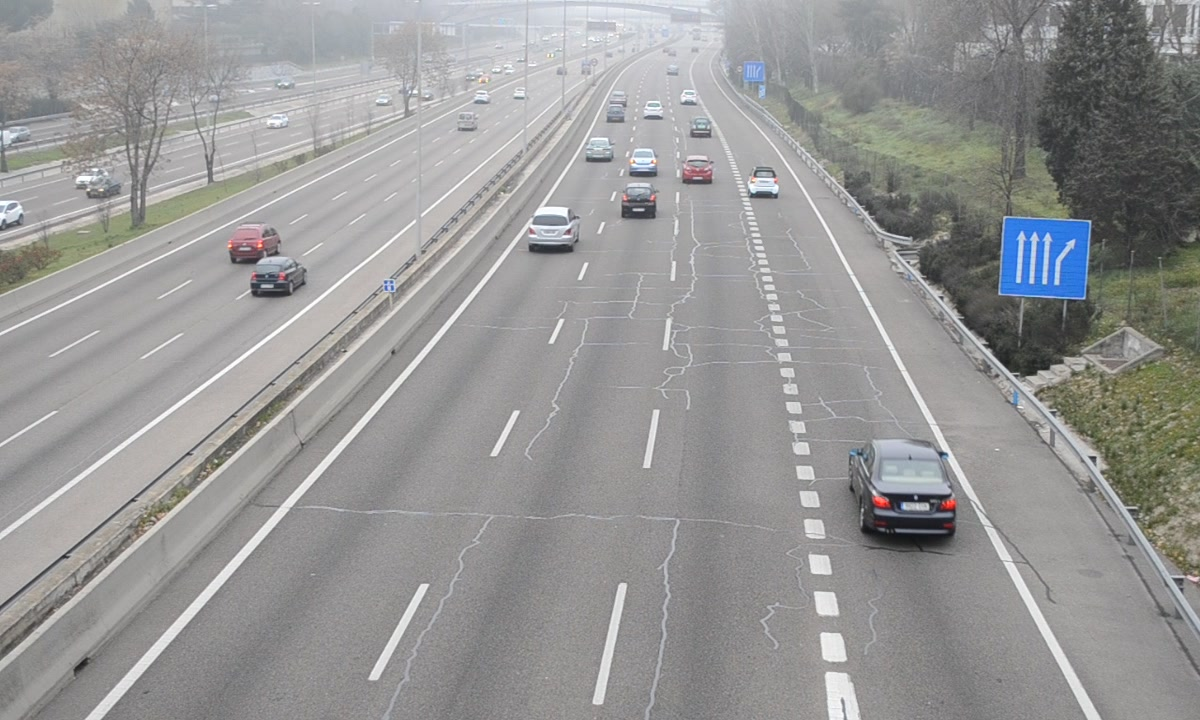car: (851, 439, 958, 537), (526, 204, 581, 249), (617, 181, 658, 221), (747, 163, 780, 199), (680, 154, 714, 187), (628, 147, 659, 178), (583, 135, 614, 162), (689, 115, 713, 139)
